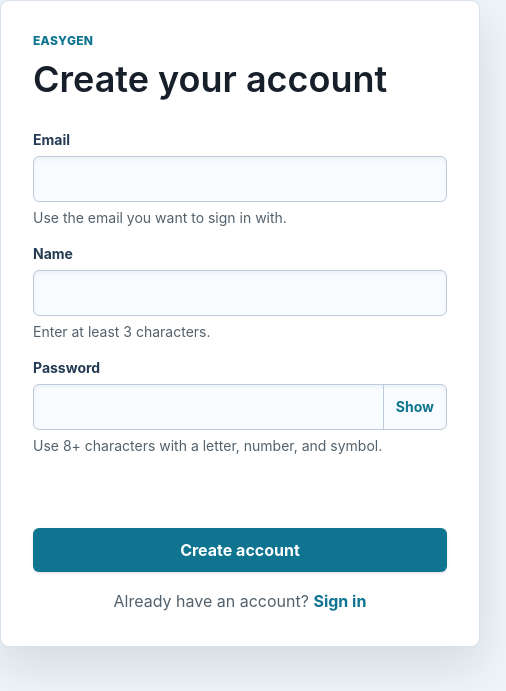
Scenario: SignupPage › keeps the submit error slot mounted before signup fails
In the field labelled "Email": (240, 179) x1=33 y1=156 x2=447 y2=202, type "person@example.com"
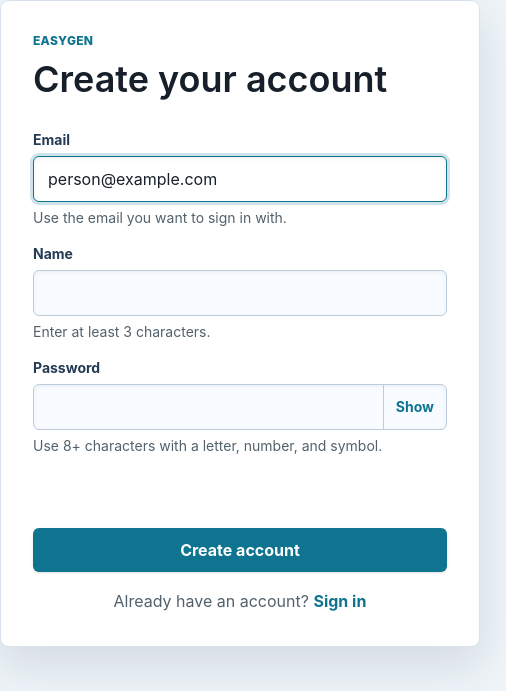
In the field labelled "Name": (240, 293) x1=33 y1=270 x2=447 y2=316, type "Person Name"
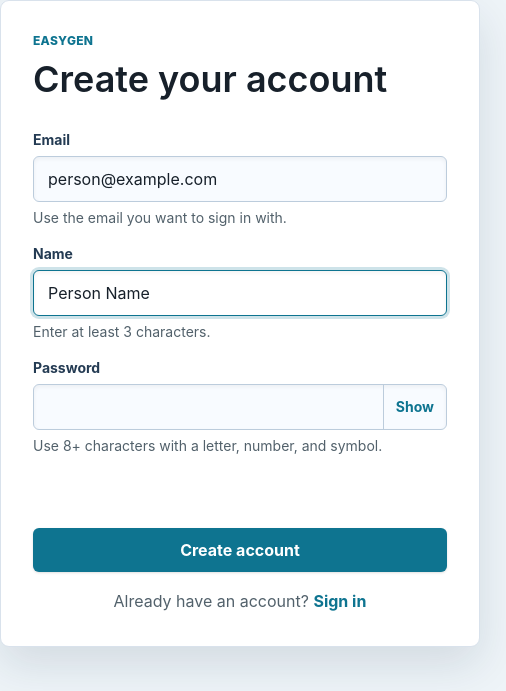
In the password field labelled "Password": (208, 407) x1=34 y1=385 x2=383 y2=429, type "Password1!"
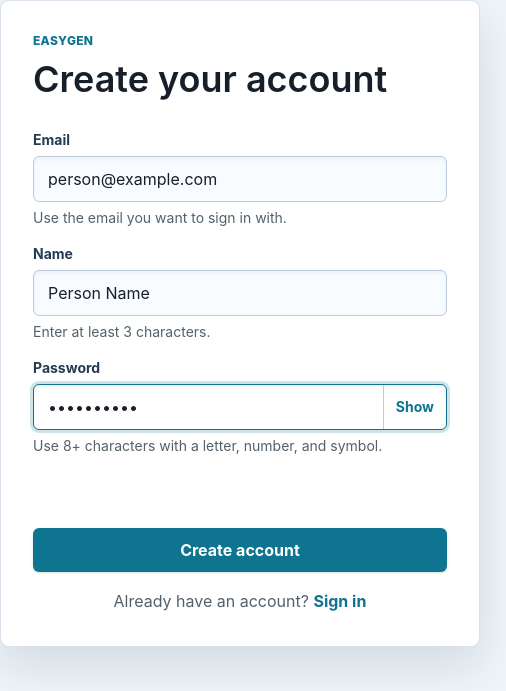
Click the button "Create account": (240, 550) x1=33 y1=528 x2=447 y2=572
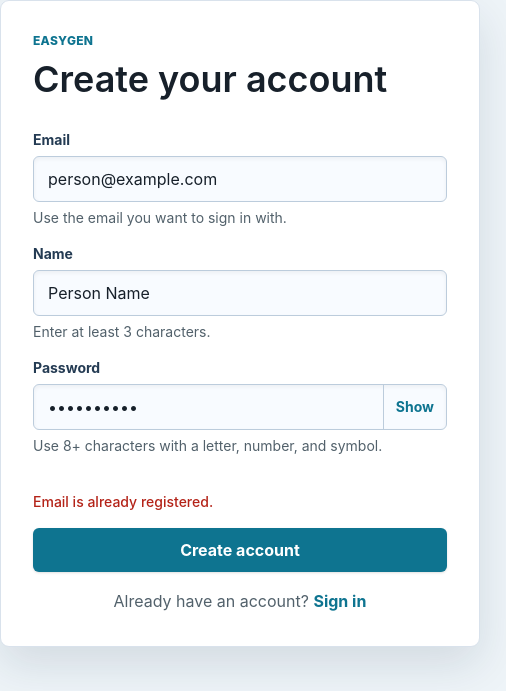
expect the text "Email is already registered." is shown: met, box x1=33 y1=493 x2=213 y2=510
